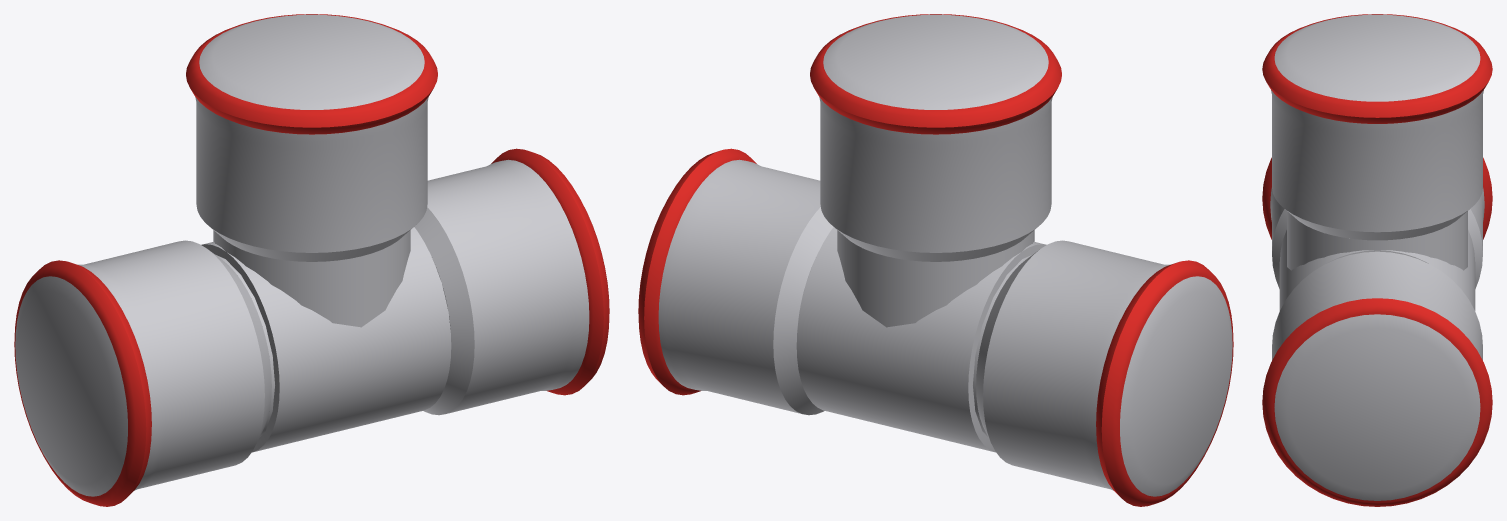
The model's file is fitting_tee_42_r.glb.
3 views of the same model, side by side, from view 1: azimuth 30°, elevation 25°; view 2: azimuth 150°, elevation 25°; view 3: azimuth 270°, elevation 25° (orthographic). The views are drawn at different scales.
Parts seen in each view (by area): view 1: раструб.001, раструб.002, раструб, узел, корпус.001, кольцо пресс.001, кольцо пресс.002, кольцо пресс, корпус; view 2: раструб.001, раструб.002, раструб, узел, корпус.001, кольцо пресс.001, кольцо пресс.002, кольцо пресс, корпус; view 3: раструб, раструб.002, кольцо пресс, кольцо пресс.002, корпус.001, узел, раструб.001, кольцо пресс.001.
Part boxes in pixels (left/top/right/bottom): раструб.001: left=15, top=240, right=271, bottom=496; раструб.002: left=195, top=14, right=428, bottom=261; раструб: left=414, top=159, right=589, bottom=415; узел: left=201, top=227, right=451, bottom=452; корпус.001: left=213, top=230, right=410, bottom=327; кольцо пресс.001: left=14, top=260, right=151, bottom=506; кольцо пресс.002: left=186, top=14, right=437, bottom=134; кольцо пресс: left=491, top=148, right=609, bottom=395; корпус: left=215, top=254, right=448, bottom=436; раструб.001: left=976, top=240, right=1232, bottom=496; раструб.002: left=819, top=14, right=1052, bottom=261; раструб: left=658, top=159, right=833, bottom=415; узел: left=796, top=227, right=1046, bottom=452; корпус.001: left=837, top=230, right=1034, bottom=327; кольцо пресс.001: left=1096, top=260, right=1233, bottom=506; кольцо пресс.002: left=810, top=14, right=1061, bottom=134; кольцо пресс: left=638, top=148, right=756, bottom=395; корпус: left=799, top=254, right=1032, bottom=436; раструб: left=1272, top=251, right=1482, bottom=500; раструб.002: left=1271, top=14, right=1483, bottom=240; кольцо пресс: left=1262, top=298, right=1492, bottom=506; кольцо пресс.002: left=1262, top=14, right=1492, bottom=123; корпус.001: left=1287, top=211, right=1467, bottom=270; узел: left=1279, top=230, right=1475, bottom=310; раструб.001: left=1270, top=188, right=1484, bottom=288; кольцо пресс.001: left=1262, top=157, right=1492, bottom=239.
Size of the model in its own units: 0.129 by 0.0966 by 0.0573.
